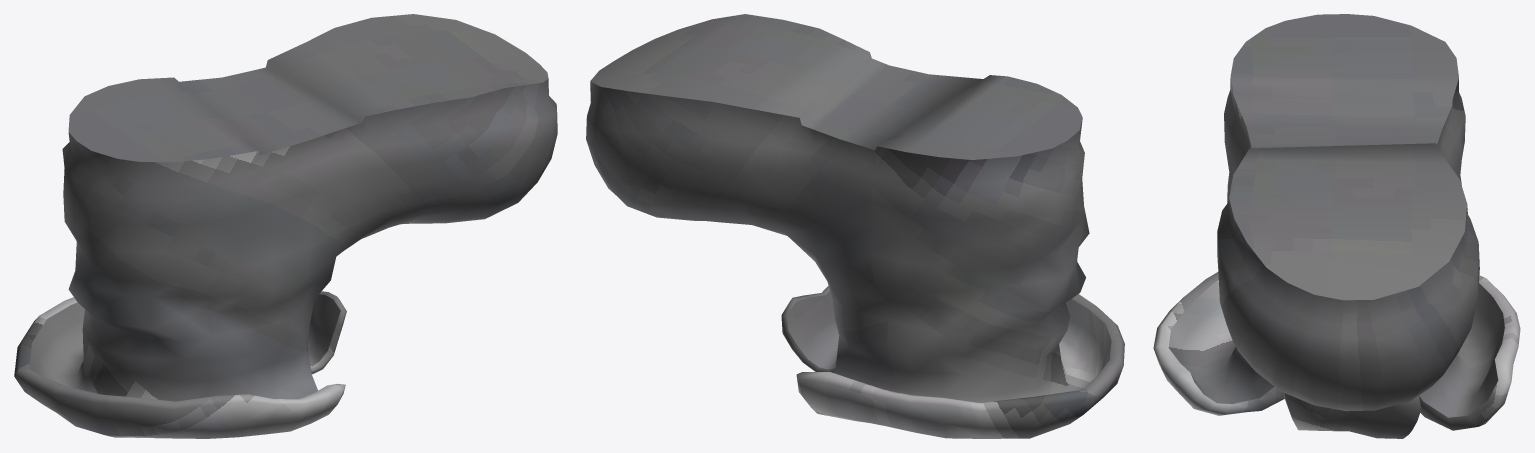
Rendered from ItemsMode_01_Items_Boot_SM.glb.
3 renders of one model, left to right at view 1: azimuth 30°, elevation 25°; view 2: azimuth 150°, elevation 25°; view 3: azimuth 270°, elevation 25°, orthographic. The views are drawn at different scales.
Parts seen in each view (by area): view 1: Items_Boot_SM; view 2: Items_Boot_SM; view 3: Items_Boot_SM.
Boxes of the visible parts, left/top/right/bottom form: Items_Boot_SM: left=14, top=14, right=557, bottom=438; Items_Boot_SM: left=586, top=14, right=1124, bottom=438; Items_Boot_SM: left=1153, top=14, right=1520, bottom=438.
Bounding box in the file's own units: 1.01 × 0.5378 × 0.5635.
Materials: 1 (1 with a texture image).
